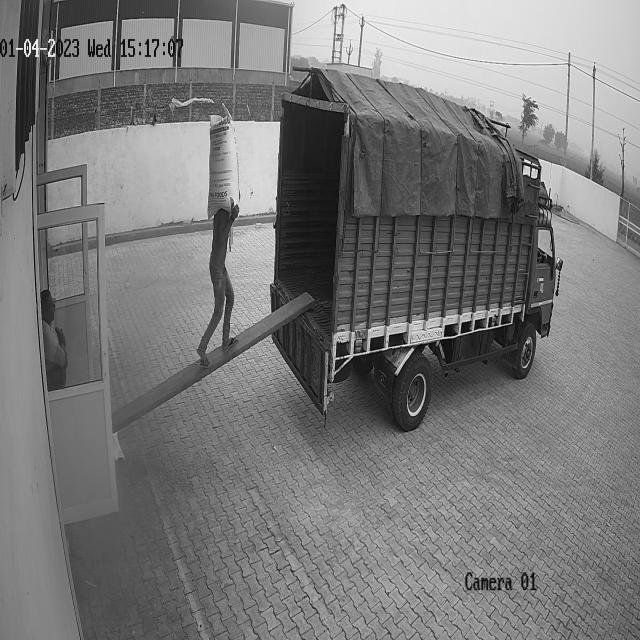sack: (207, 106, 240, 222)
